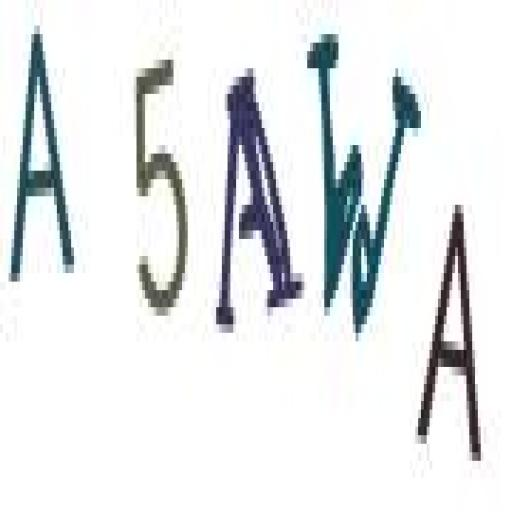5: (125, 48, 197, 332)
A: (214, 55, 308, 341), (410, 188, 487, 470), (4, 16, 80, 290)
W: (304, 17, 420, 346)
